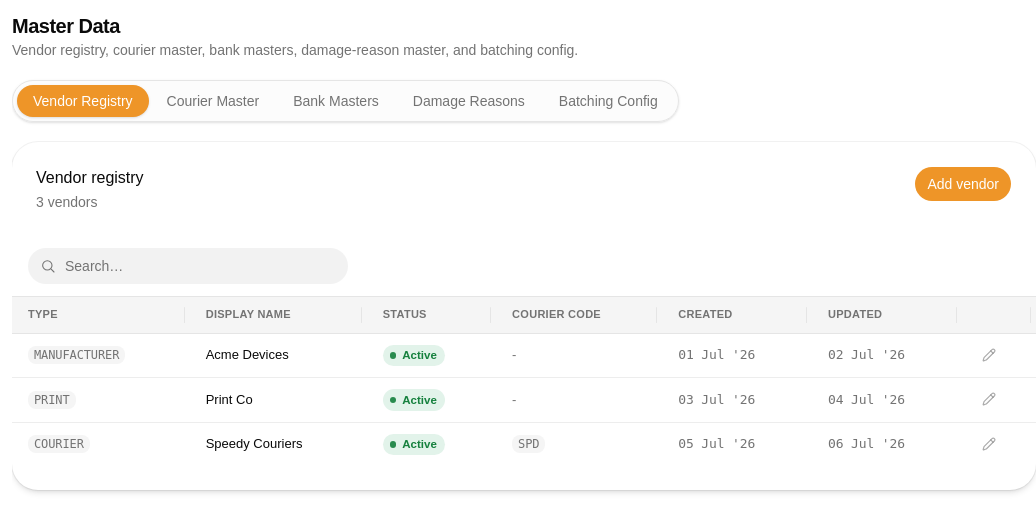
master data views › Bank Masters tab renders rows from the real GET /ops/bank-masters read
Click the button "Bank Masters" at (336, 101), box [277, 85, 395, 117]
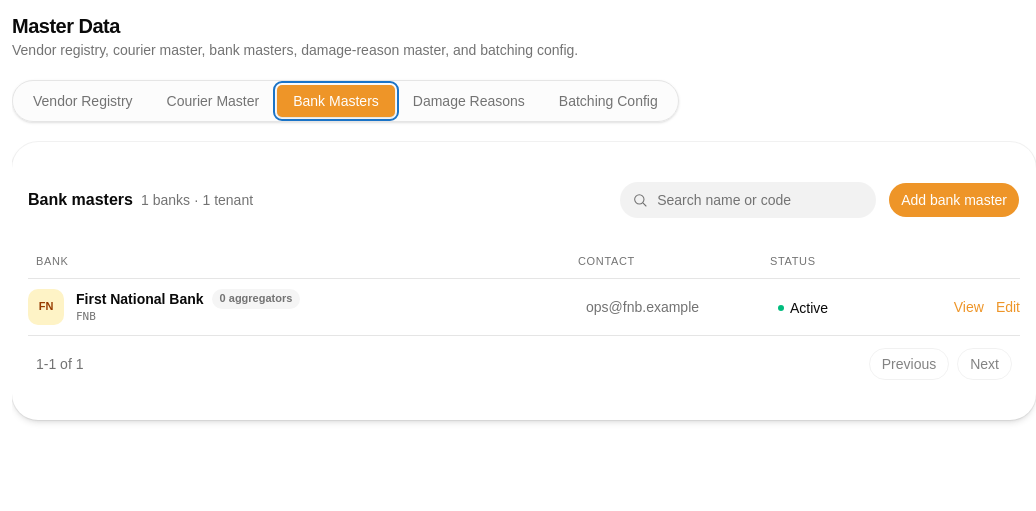
Expected: the button "First National Bank" is shown, [76, 289, 204, 309]
Expected: the text "FNB" is shown, [76, 310, 96, 323]
Expected: the text "ops@fnb.example" is shown, [586, 299, 699, 315]
